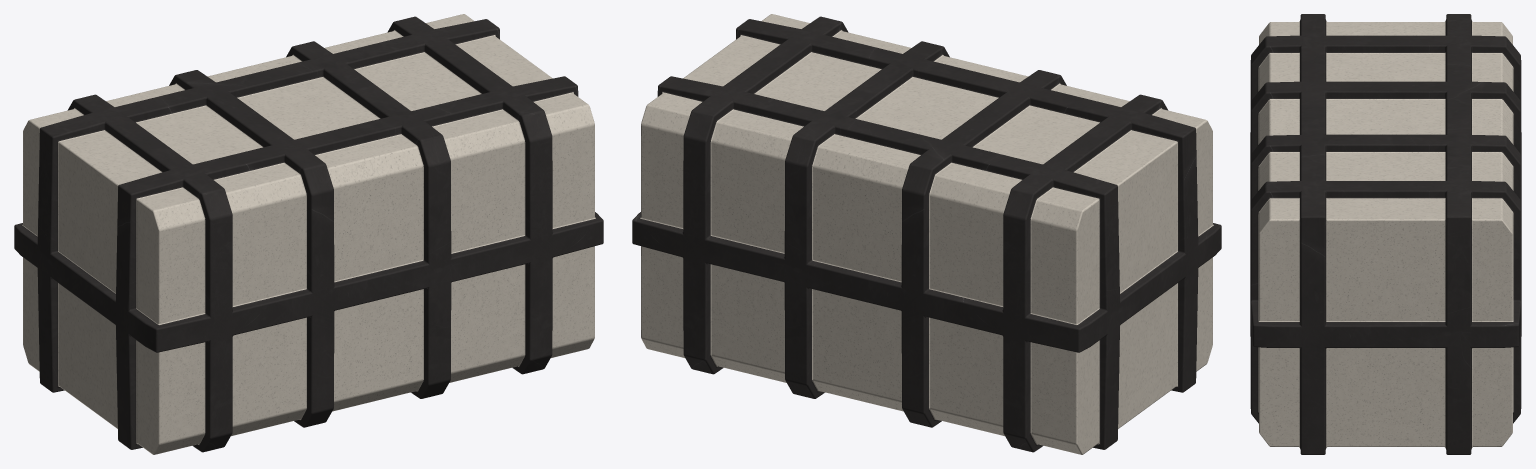
Rendered from Crate 1 Big.fbx.
3 renders of one model, left to right at view 1: azimuth 30°, elevation 25°; view 2: azimuth 150°, elevation 25°; view 3: azimuth 270°, elevation 25°, orthographic. The views are drawn at different scales.
Parts seen in each view (by area): view 1: Crate 1 Big; view 2: Crate 1 Big; view 3: Crate 1 Big.
Boxes of the visible parts, box(x1,y1,x2,y2) form: Crate 1 Big: box(14, 14, 603, 454); Crate 1 Big: box(632, 14, 1221, 454); Crate 1 Big: box(1250, 14, 1521, 454).
Size of the model in its own units: 2.9 by 1.62 by 1.6.
